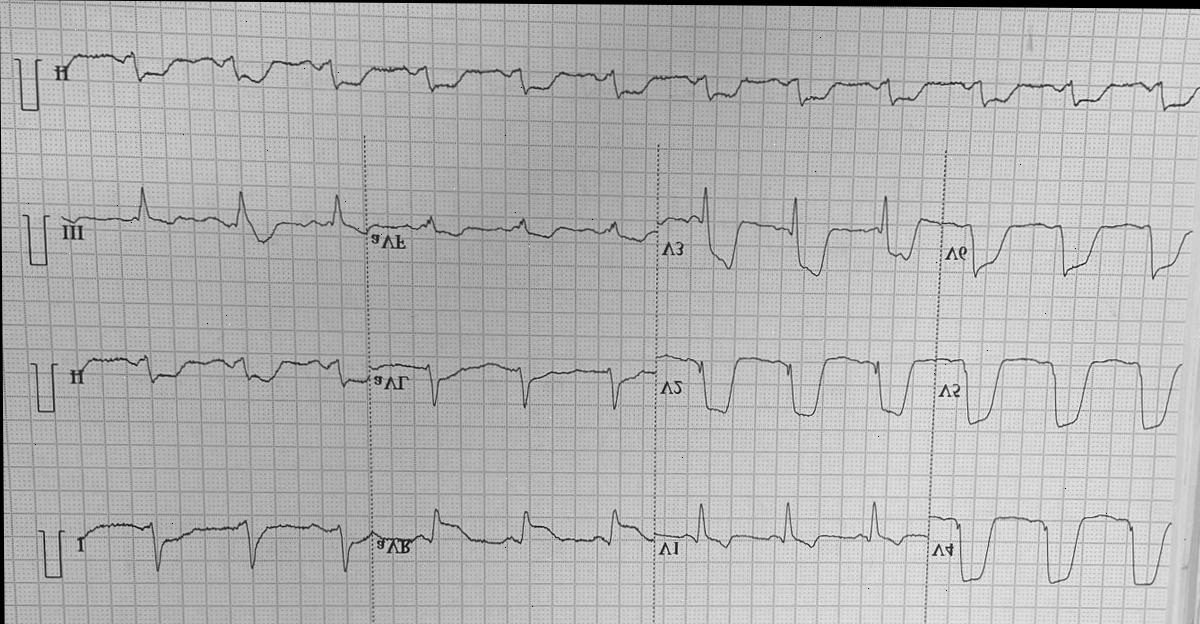Lead_I: (70, 482, 372, 591)
Lead_II: (65, 335, 374, 420)
Lead_III: (52, 174, 366, 260)
Lead_II_ext: (45, 38, 1200, 127)
Lead_V1: (657, 480, 928, 577)
Lead_V2: (655, 333, 936, 431)
Lead_V3: (655, 166, 942, 287)
Lead_V4: (924, 490, 1177, 600)
Lead_V5: (933, 339, 1194, 442)
Lead_V6: (941, 204, 1196, 293)
Lead_aVF: (362, 201, 657, 268)
Lead_aVL: (370, 331, 659, 425)
Lead_aVR: (374, 493, 658, 578)
